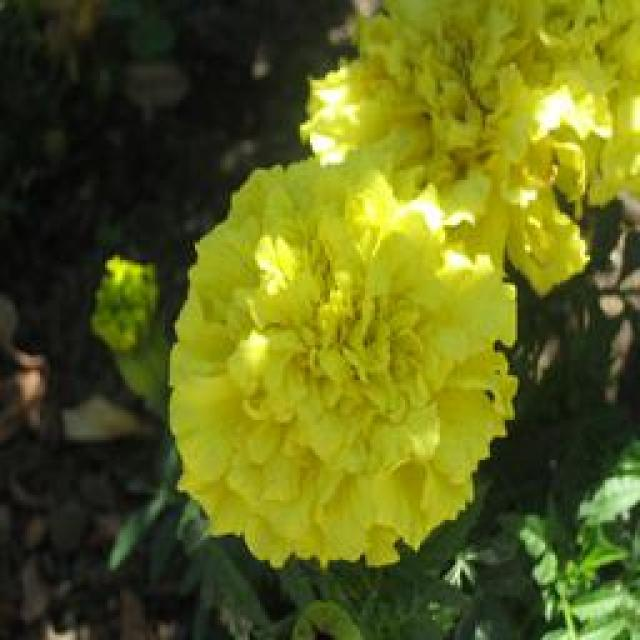carnation: (150, 148, 548, 553)
